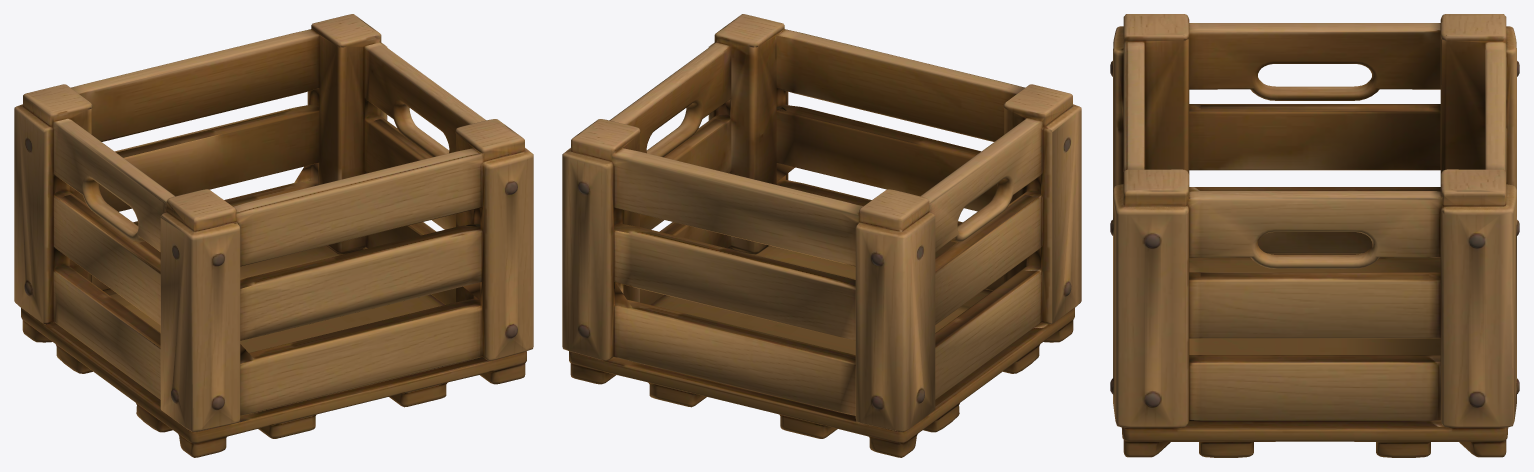
File: Outdoor__wooden_crate_outdoor_realistic_style_03cf0918_v2.cluster.glb
3 renders of one model, left to right at view 1: azimuth 30°, elevation 25°; view 2: azimuth 150°, elevation 25°; view 3: azimuth 270°, elevation 25°, orthographic. The views are drawn at different scales.
Parts seen in each view (by area): view 1: texture_pbr_20250901; view 2: texture_pbr_20250901; view 3: texture_pbr_20250901.
Part boxes in pixels (<box>): texture_pbr_20250901: <box>14,14,533,457</box>; texture_pbr_20250901: <box>562,14,1081,457</box>; texture_pbr_20250901: <box>1110,14,1519,457</box>.
Size of the model in its own units: 1.9 by 1.26 by 1.74.
Materials: 1 (1 with a texture image).
